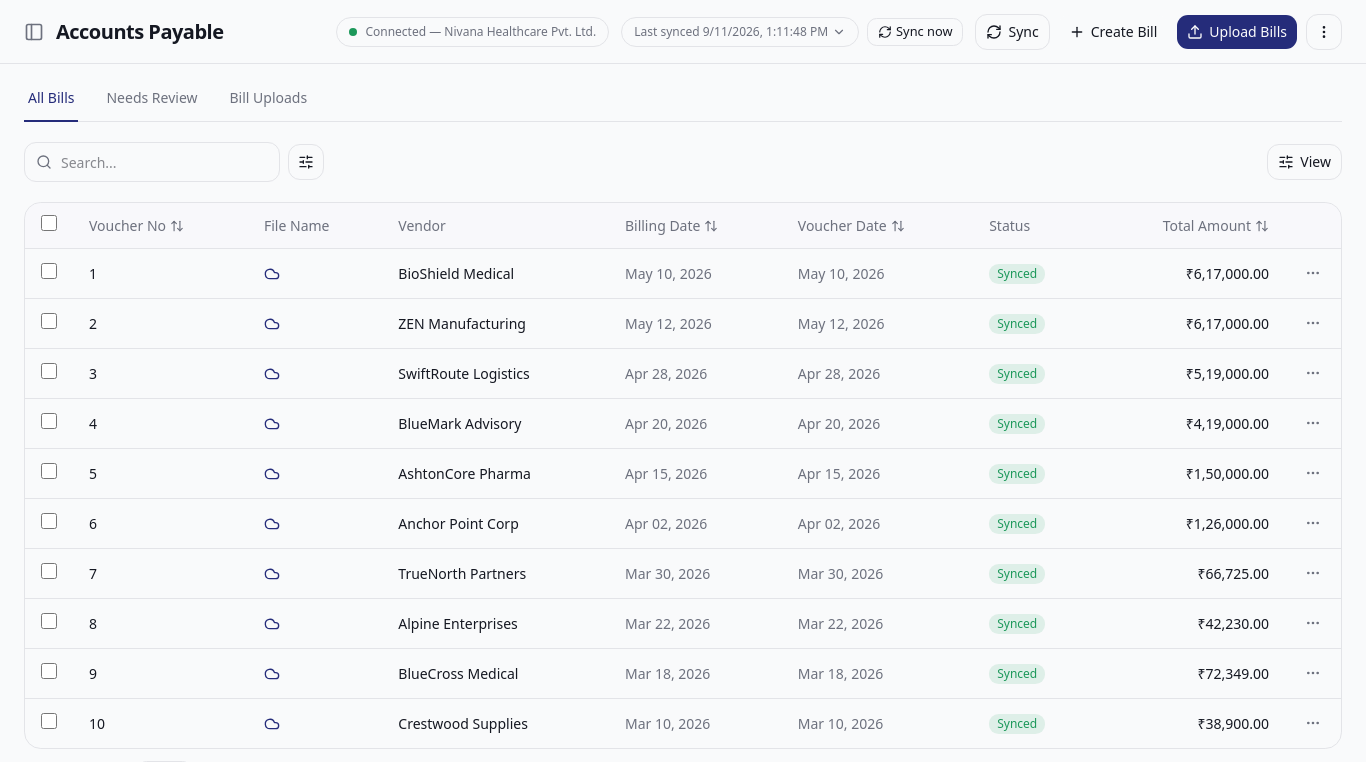
Test: AccountsPayablePage — Bill Uploads tab (§3.10) › lists attachments with an OCR confidence summary and a create-bill action
Expected: the text "BioShield Medical" is shown, [382, 248, 609, 298]
Step 1. Click the button "Bill Uploads" → (268, 105), box [226, 88, 311, 122]
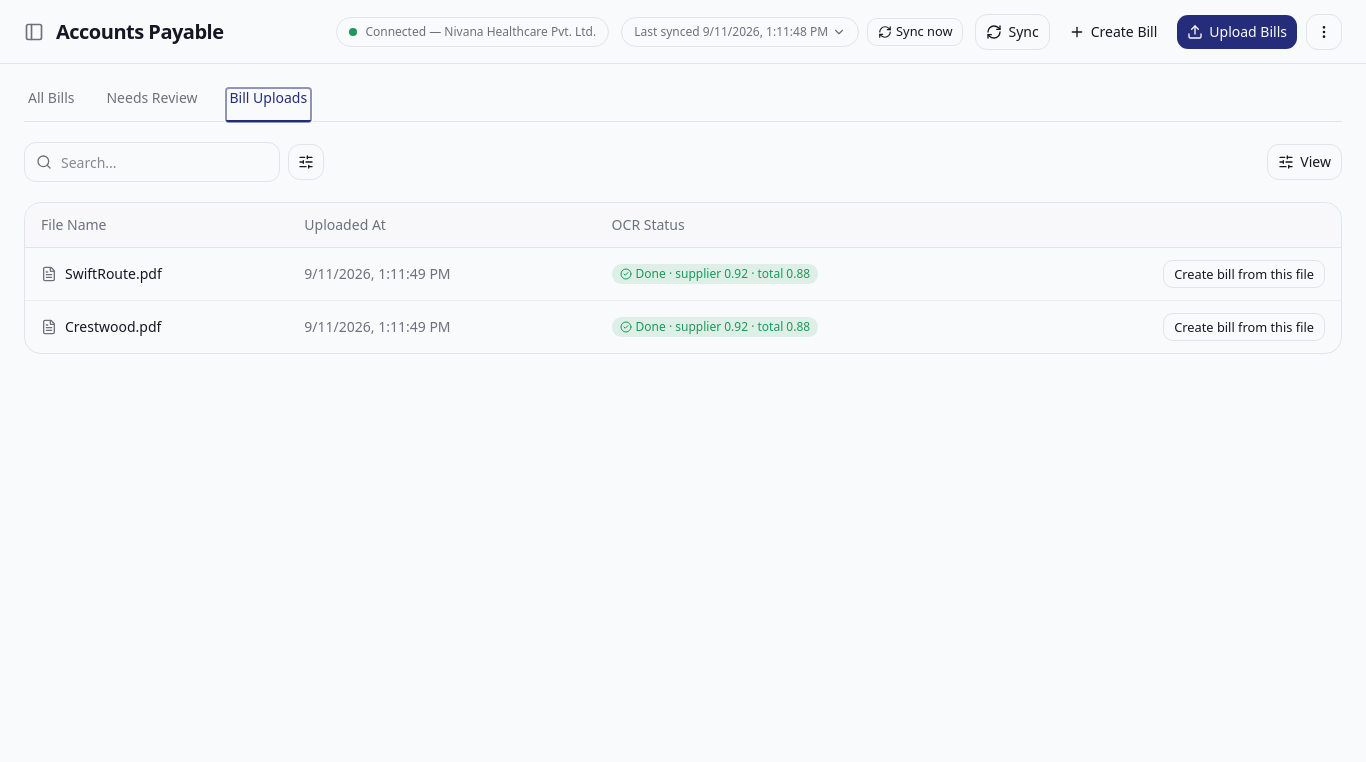
Result: the text "SwiftRoute.pdf" is shown at [41, 264, 162, 283]
Result: the text "Done · supplier 0.92 · total 0.88" in the row of "SwiftRoute.pdf" is shown at [666, 264, 810, 282]
Result: the button "Create bill from this file" in the row of "SwiftRoute.pdf" is shown at [1163, 260, 1325, 288]
